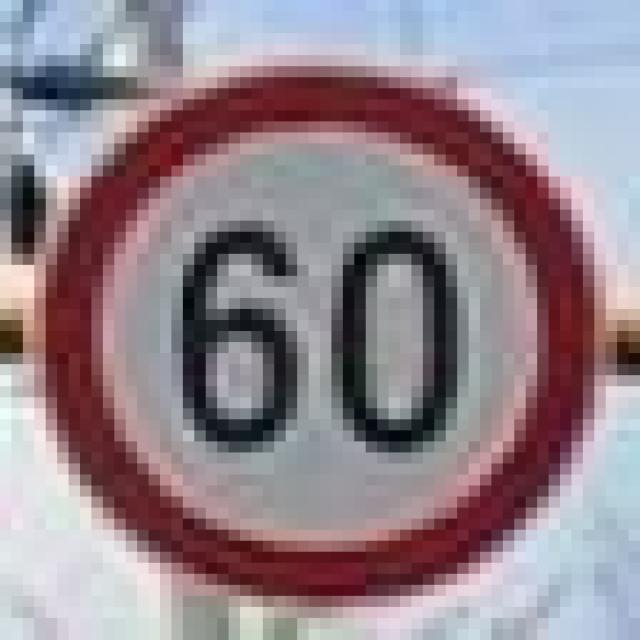Ograniczenie predkosci do 60: (23, 55, 594, 596)
